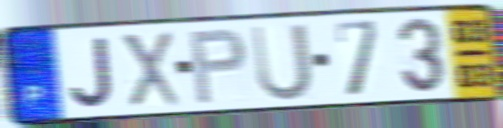3: (395, 15, 447, 95)
7: (334, 17, 379, 98)
J: (68, 35, 116, 110)
P: (187, 26, 250, 107)
U: (248, 21, 315, 104)
X: (117, 29, 183, 109)
